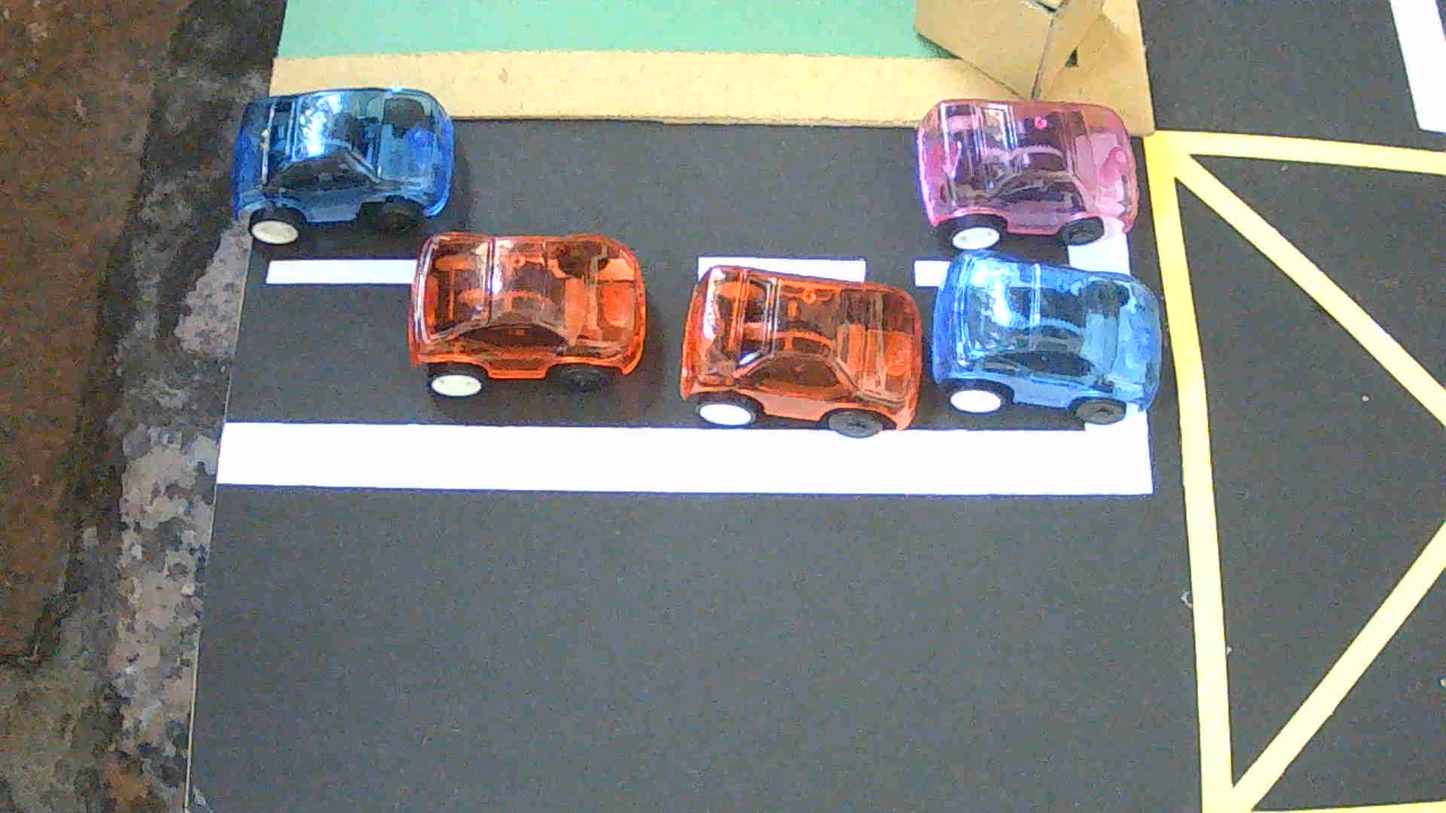Mobil biru: (931, 251, 1161, 424), (233, 88, 453, 244)
Mobil orange: (681, 266, 922, 437), (408, 233, 647, 397)
Mobil ungu: (916, 99, 1138, 248)
